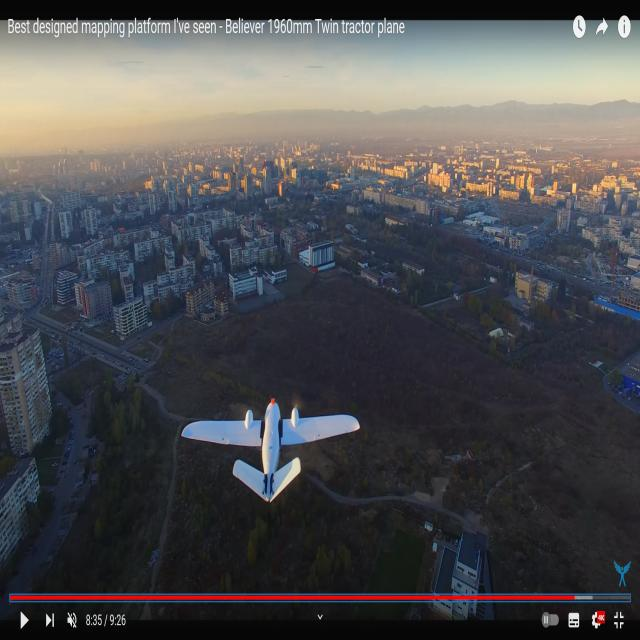iha: (182, 426, 362, 471)
